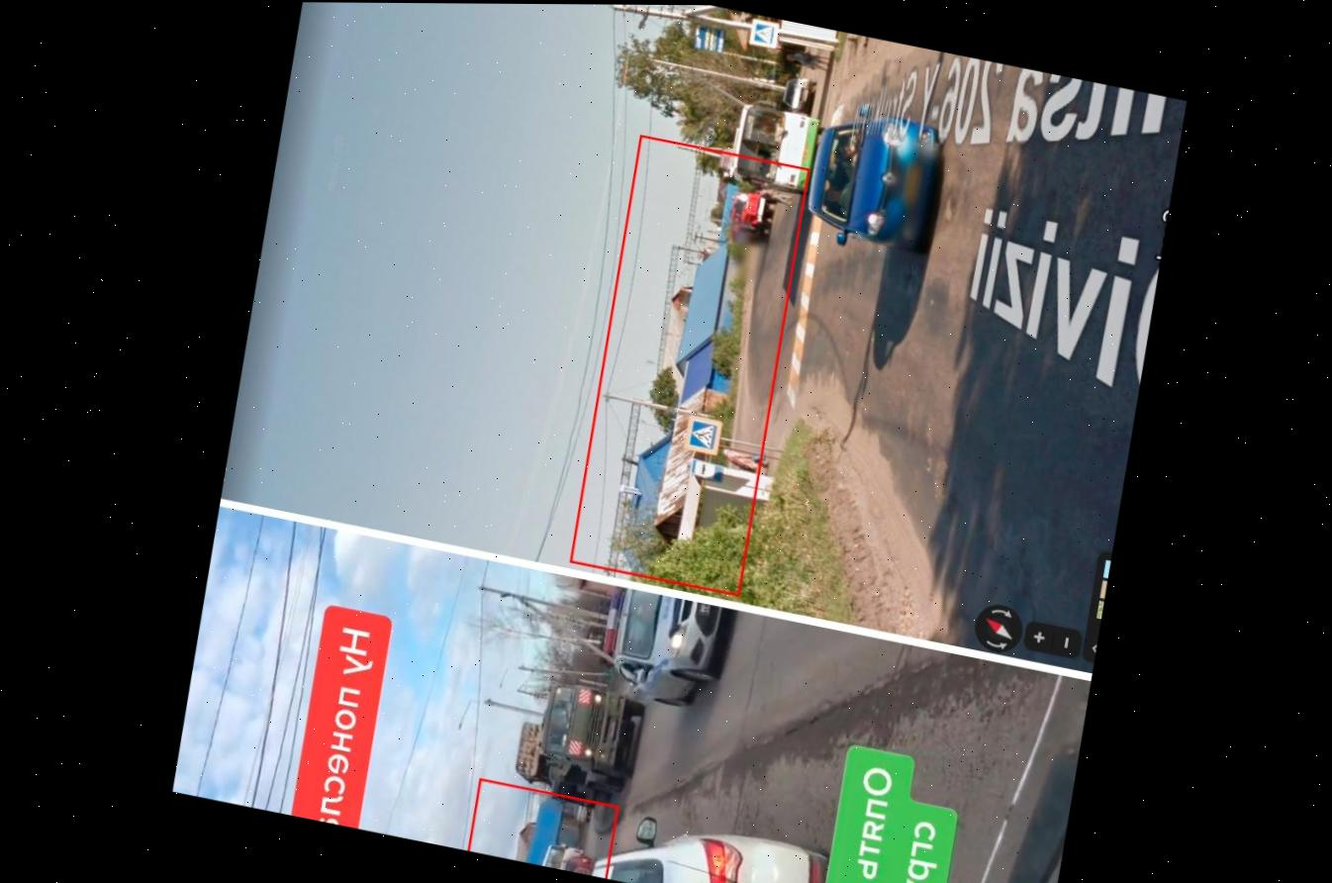car: (583, 568, 743, 713), (798, 111, 952, 261), (603, 797, 833, 883), (724, 190, 775, 238), (781, 70, 818, 109)
rszo: (507, 674, 650, 806)
